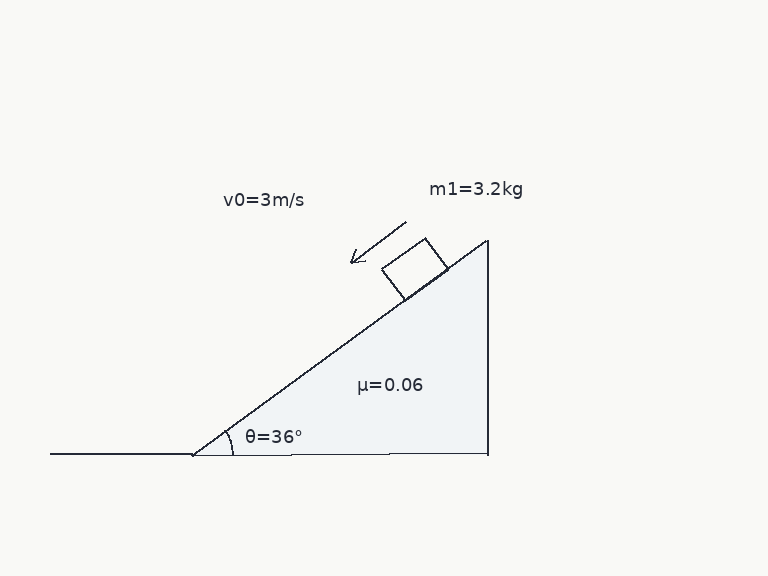block: (380, 235, 450, 302)
ramp: (191, 239, 489, 456)
